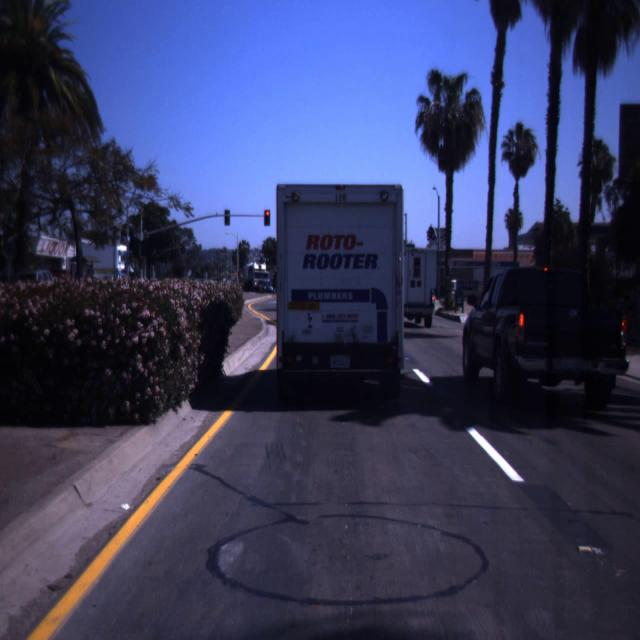stop: (264, 210, 272, 222)
stop traffic light: (264, 210, 272, 222)
